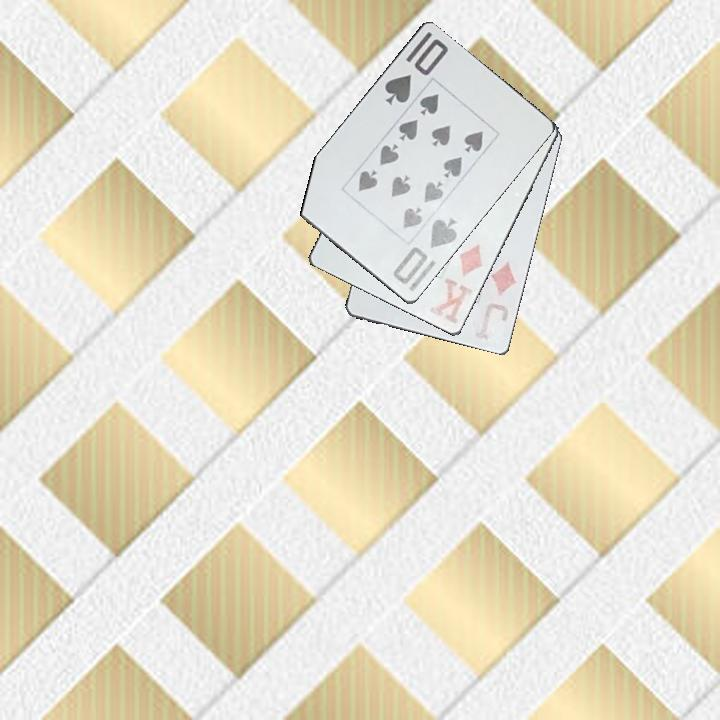Jd: (472, 258, 521, 346)
Kd: (426, 241, 488, 327)
Ts: (381, 28, 451, 108), (389, 215, 462, 288)
